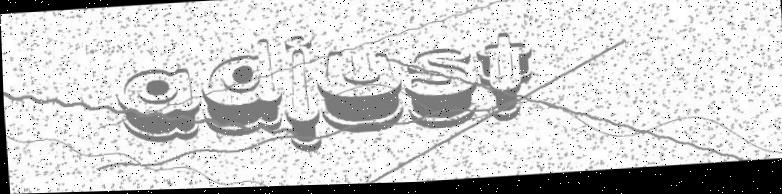a: (113, 66, 203, 146)
d: (198, 38, 286, 139)
i: (279, 36, 322, 156)
s: (400, 48, 481, 134)
t: (474, 32, 536, 126)
u: (313, 48, 406, 138)
